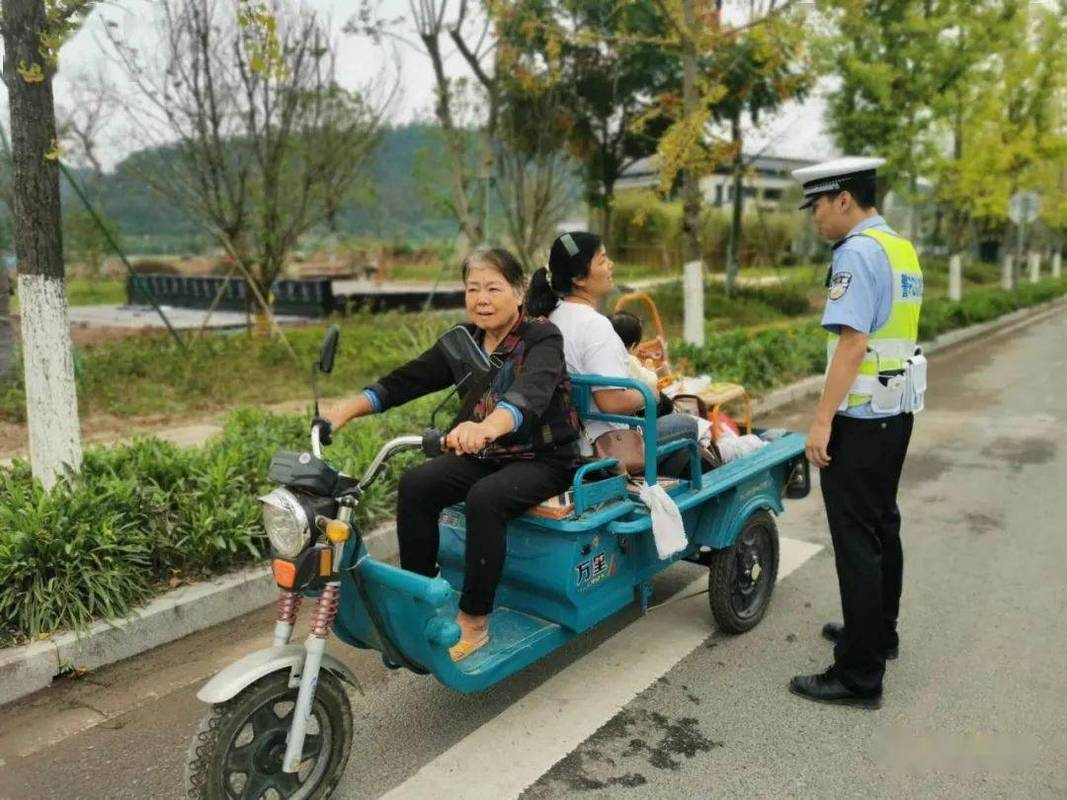driver: (375, 241, 557, 646)
overloading: (186, 218, 796, 786)
passenger: (539, 224, 719, 499)
